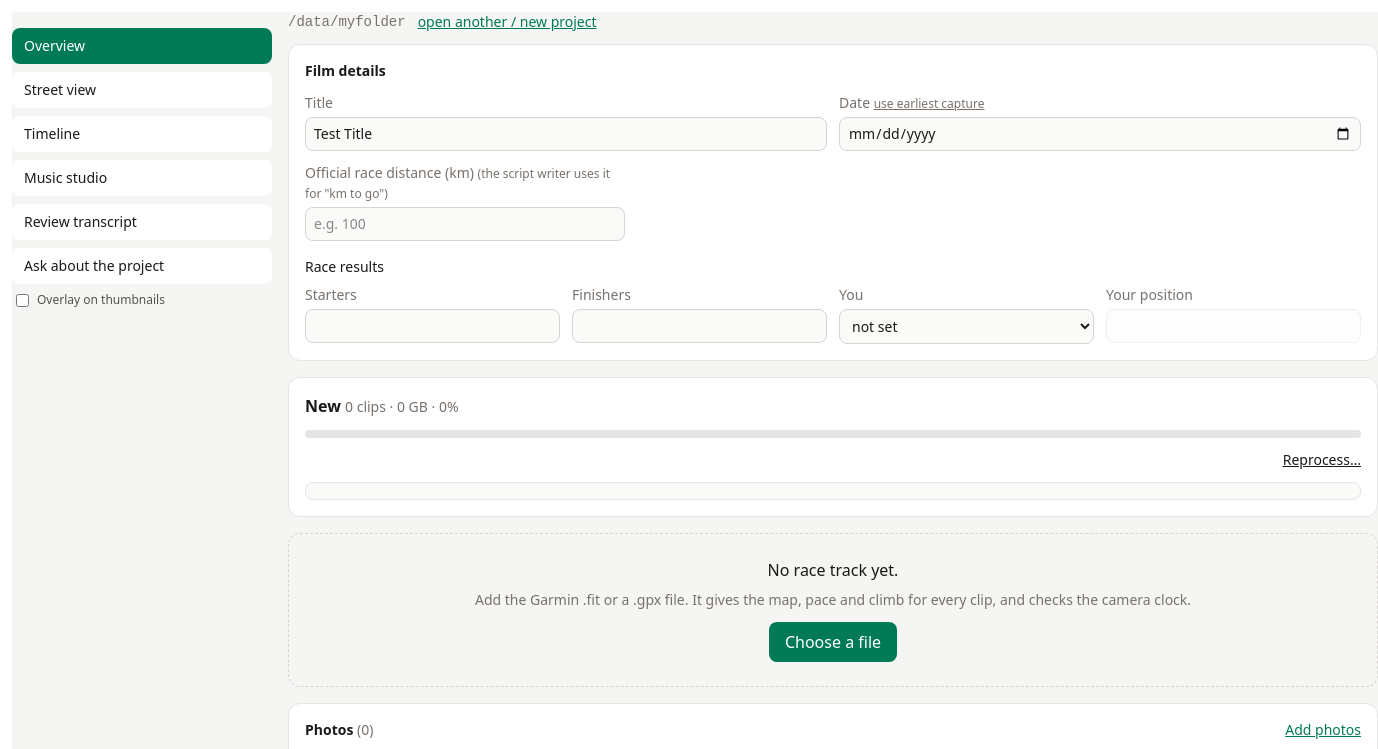
Test: Workspace › transitions to timeline view when Timeline button is clicked
This screenshot has width=1378, height=749.
Click the button "Timeline" at (52, 134), box x1=12 y1=116 x2=272 y2=152
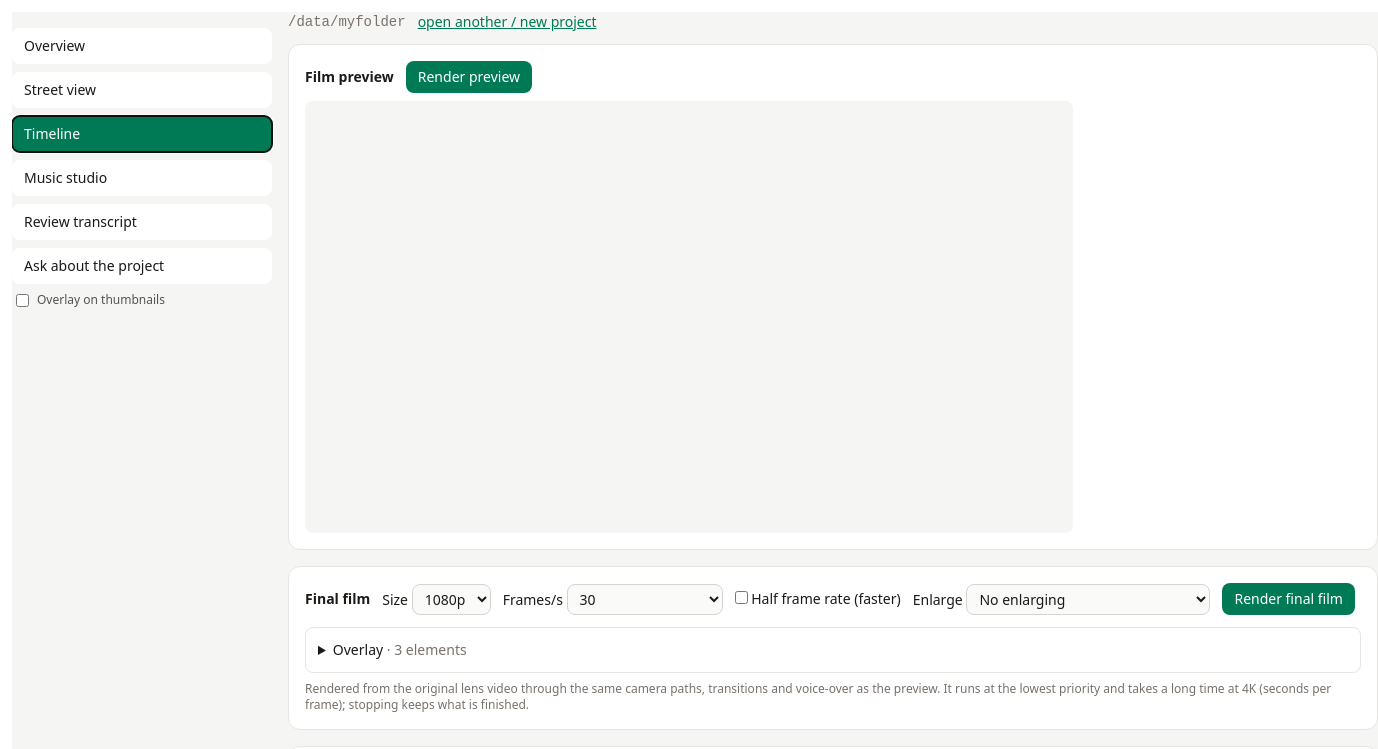
Expected: the heading "Film preview" is shown, x1=305 y1=67 x2=394 y2=87
Expected: the heading "Film details" is gone
